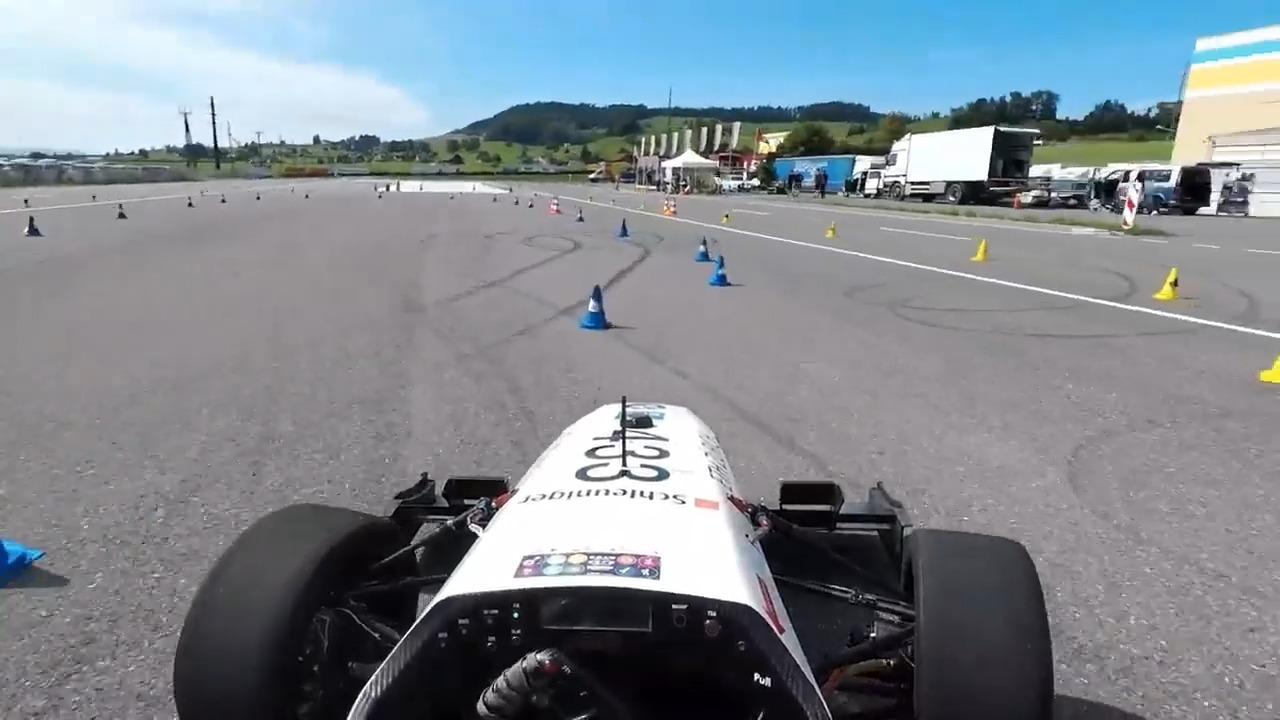blue_cone: (0, 471, 45, 583), (576, 281, 615, 333), (707, 254, 733, 288), (693, 236, 714, 263), (616, 215, 632, 240)
large_orange_cone: (551, 196, 560, 215), (669, 198, 677, 216), (663, 197, 670, 214)
yellow_cone: (1152, 263, 1181, 303), (970, 238, 989, 262), (825, 219, 838, 238)
